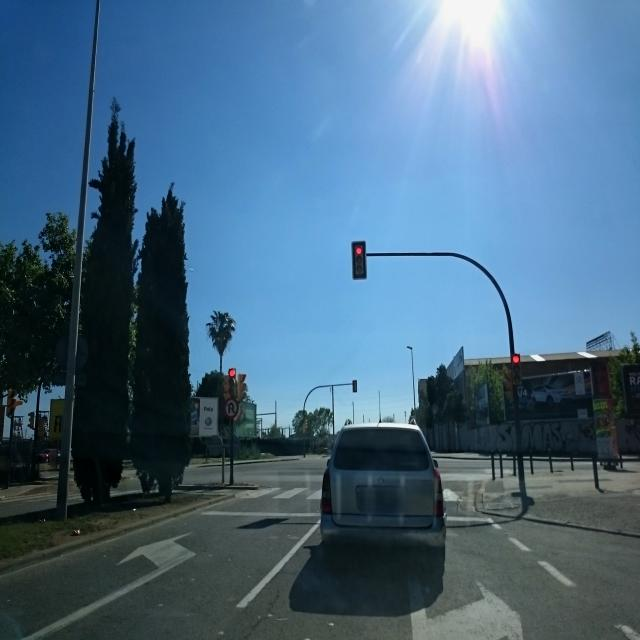car: (319, 420, 447, 577), (37, 447, 61, 464)
